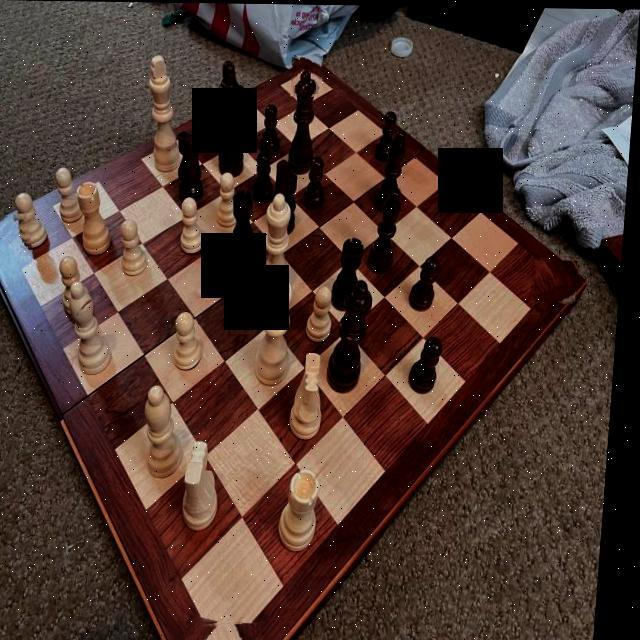chess-table-corners: (534, 256, 582, 302), (0, 214, 39, 270), (195, 618, 267, 640), (292, 54, 325, 96)
